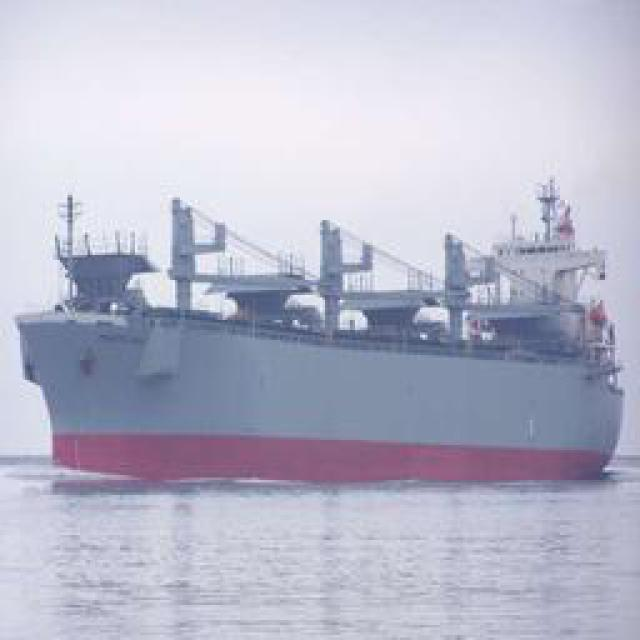Ship: (20, 195, 623, 485)
